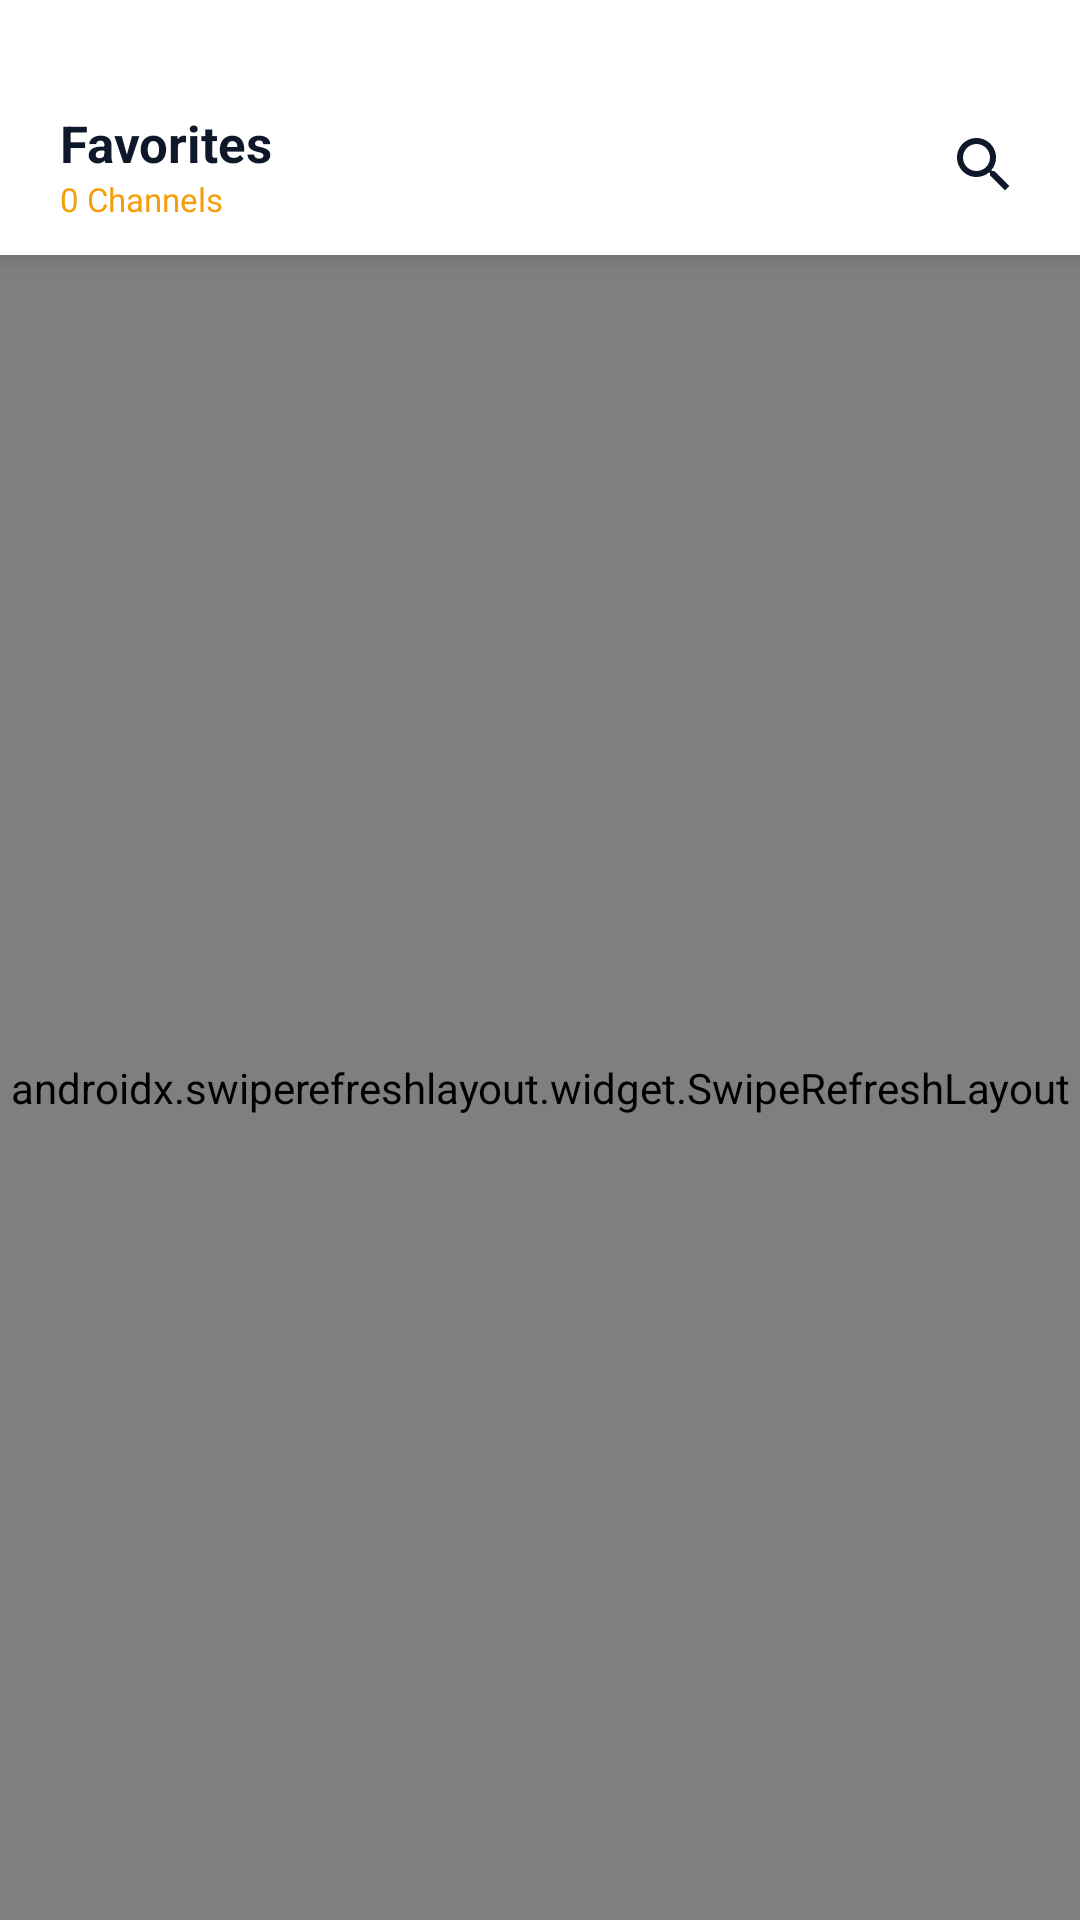

Icons on this 1080px×1920px Android screen, each with the point to tap as point (x, y):
Search channels, categories…: point (983, 164)
